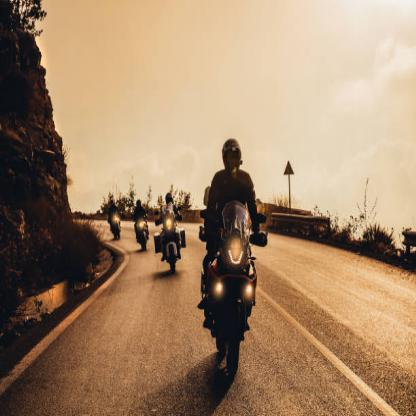Motorcycle: (198, 197, 274, 384), (156, 210, 193, 281)
